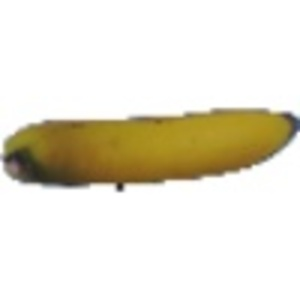banana: (2, 103, 300, 191)
